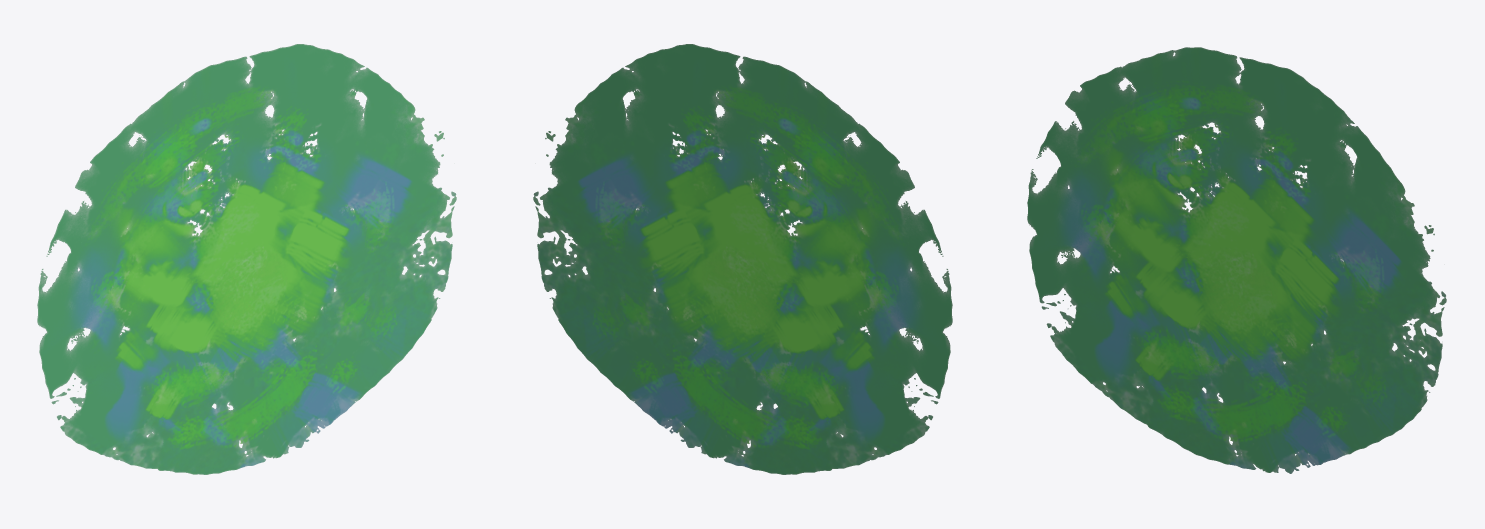
Rendered from ms_greenteleportmiddle_static.fbx.
3 views of the same model, side by side, from view 1: azimuth 30°, elevation 25°; view 2: azimuth 150°, elevation 25°; view 3: azimuth 330°, elevation 25° (orthographic).
Parts seen in each view (by area): view 1: pCylinder1; view 2: pCylinder1; view 3: pCylinder1.
Boxes of the visible parts, x1,y1,x2,y2 form: pCylinder1: [37, 44, 456, 474]; pCylinder1: [533, 44, 952, 474]; pCylinder1: [1027, 47, 1446, 473].
Size of the model in its own units: 84.78 by 82.66 by 0.092.
